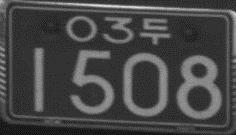0: (122, 51, 168, 118), (65, 15, 99, 42)
1: (20, 47, 59, 112)
3: (102, 16, 134, 44)
5: (69, 48, 116, 115)
8: (176, 54, 223, 120)
두: (139, 16, 171, 44)
